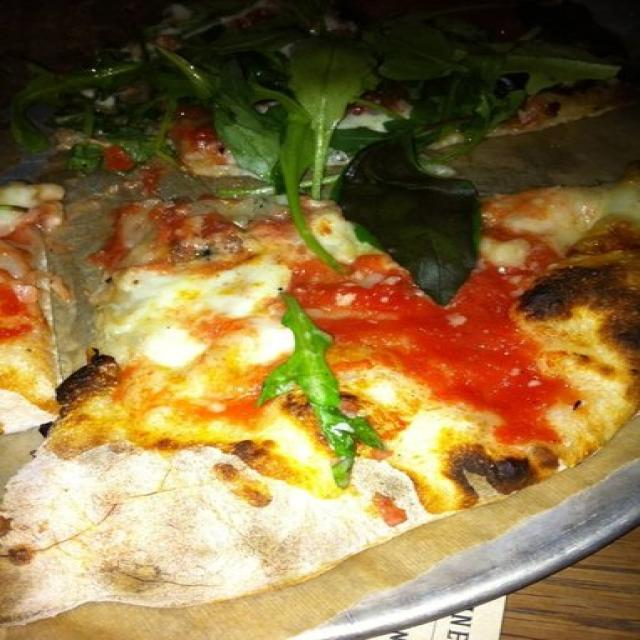Basil: (341, 121, 494, 310)
Cheese: (108, 257, 269, 359)
Pizza: (0, 0, 640, 621)
Rucola: (103, 0, 598, 133), (257, 286, 399, 480), (248, 32, 348, 280)
